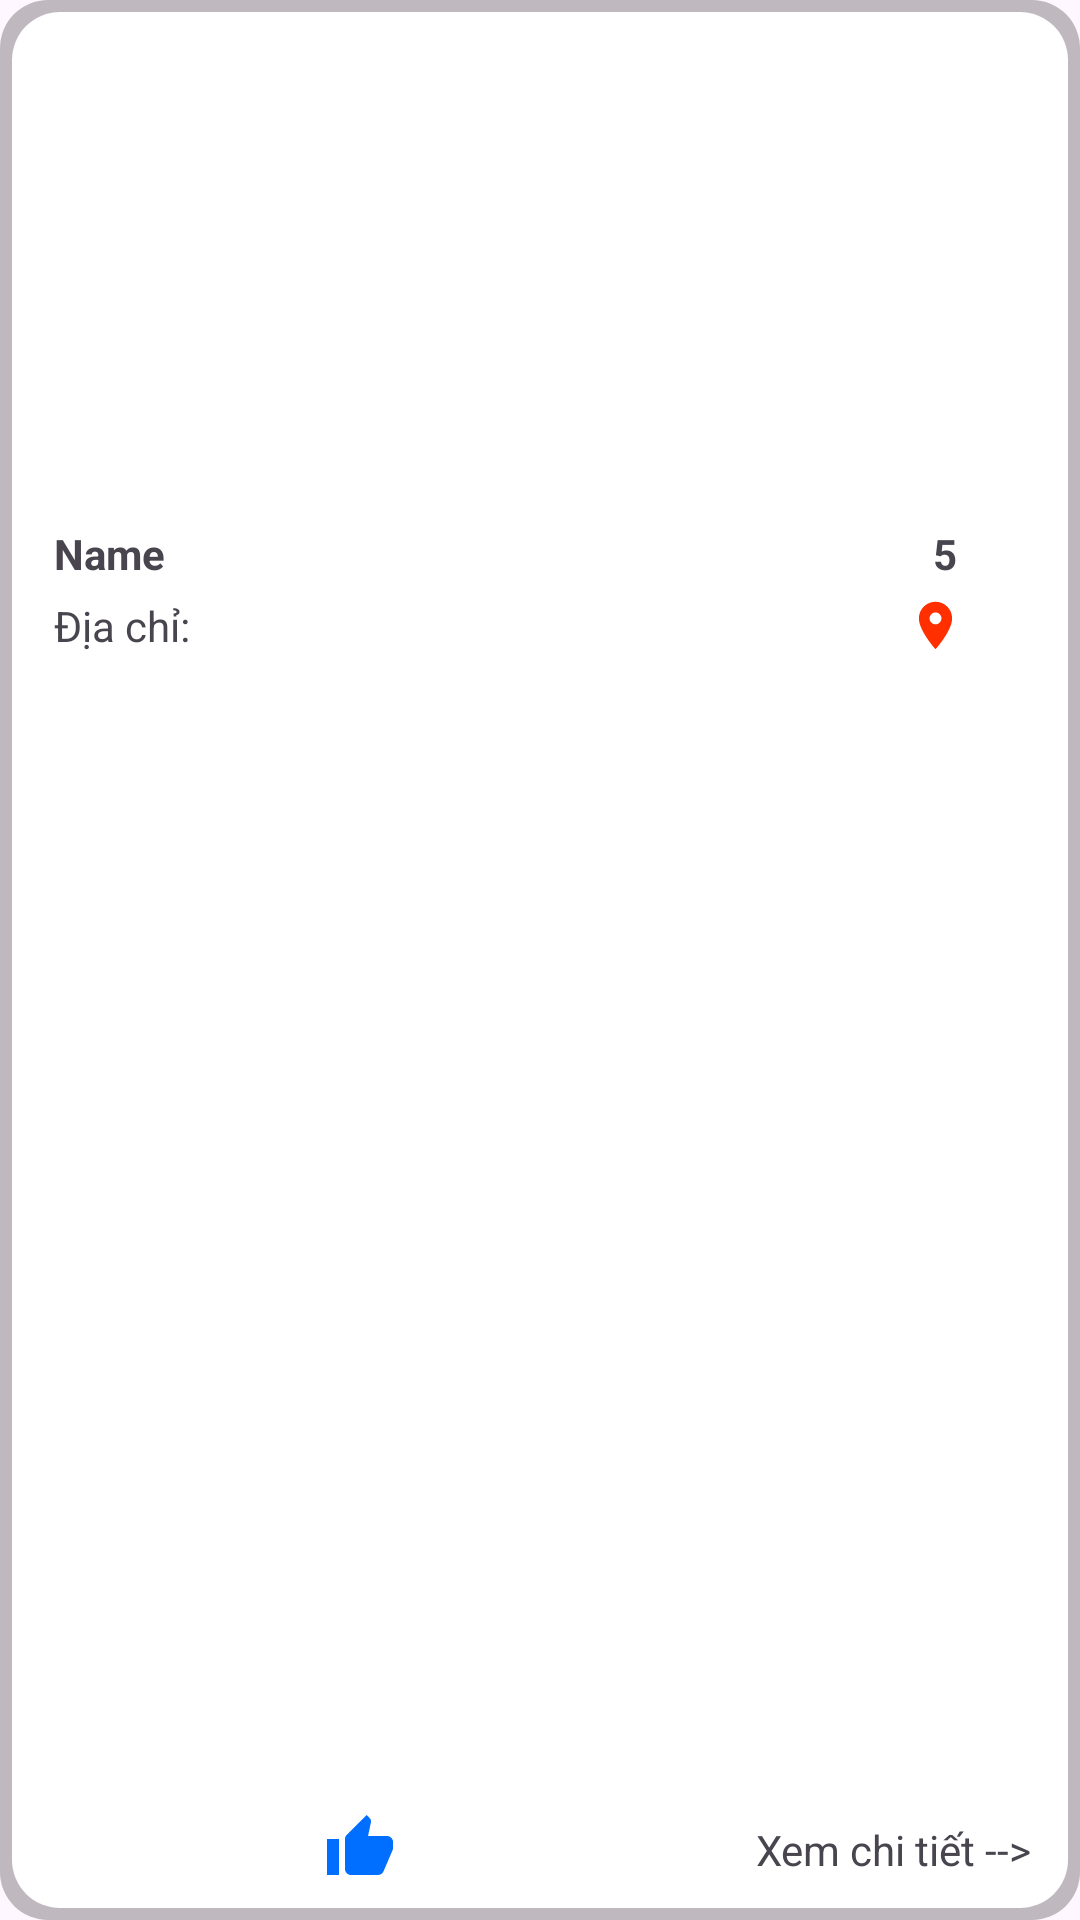

Screen size 1080w x 1920h. Icon name, then its center in pixels as (x,y):
location on: (935,625)
thumb up: (360,1845)
